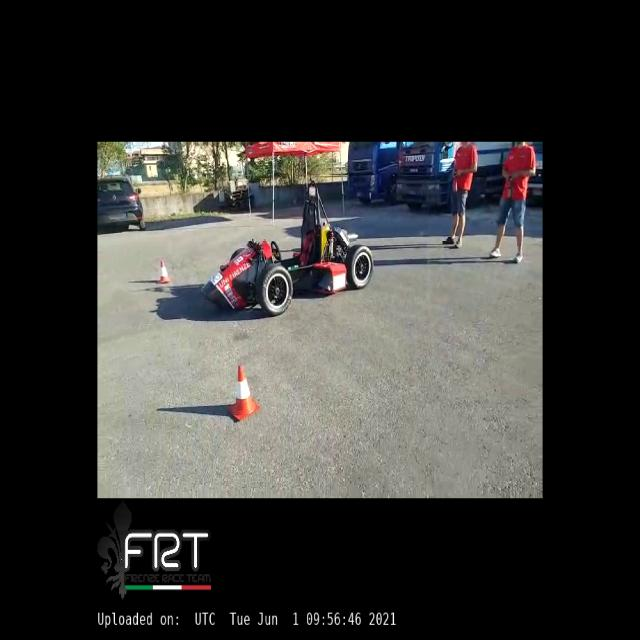orange_cone: (228, 366, 260, 419), (156, 259, 172, 284)
